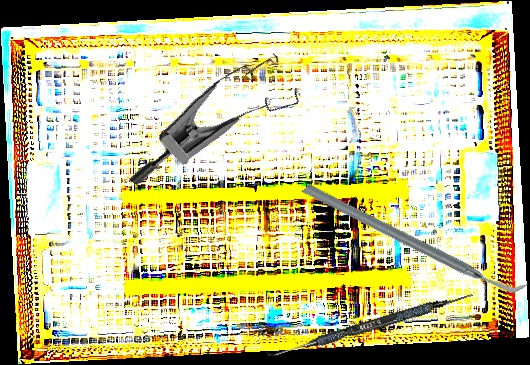Chopper: (301, 118, 528, 358)
Spatula Surgical: (266, 286, 474, 365)
Speculum: (127, 27, 314, 234)
